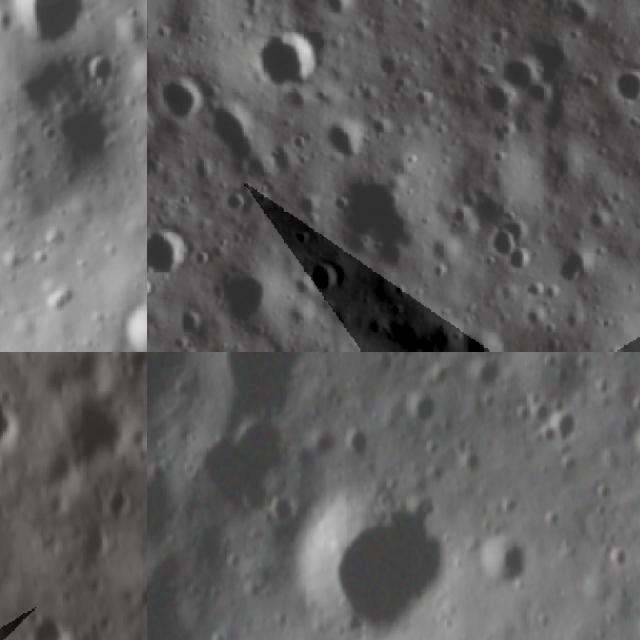crater: (292, 484, 449, 637), (176, 419, 300, 522), (333, 164, 445, 275), (194, 352, 305, 419), (50, 388, 140, 468), (229, 32, 316, 98), (4, 0, 93, 52), (475, 517, 536, 591), (151, 72, 216, 130), (500, 49, 562, 108), (475, 221, 538, 278), (147, 222, 198, 281), (534, 404, 588, 455), (319, 116, 365, 162), (461, 352, 506, 398), (0, 390, 26, 456), (22, 607, 73, 640), (77, 520, 117, 562), (93, 486, 138, 523), (608, 62, 640, 110), (118, 302, 147, 352), (82, 52, 116, 89), (625, 420, 640, 464), (427, 352, 462, 361)
